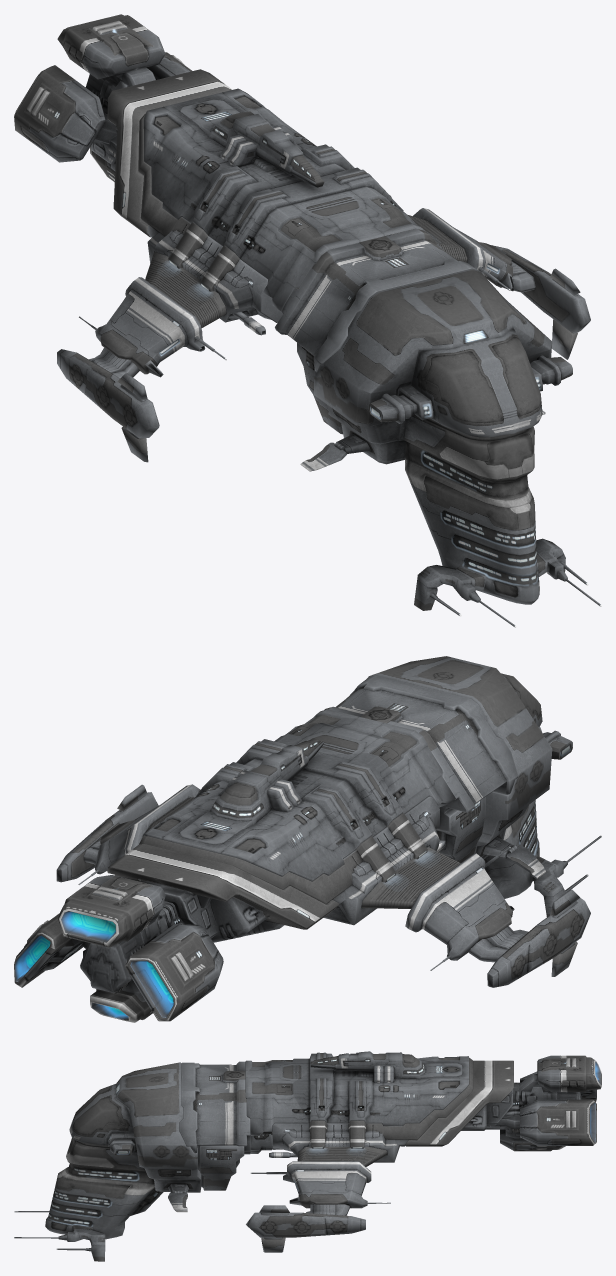
Rendered from 29984_Tengu1213_lite.glb.
The picture shows the model from 3 angles, top to bottom: view 1: azimuth 30°, elevation 25°; view 2: azimuth 150°, elevation 25°; view 3: azimuth 270°, elevation 25°; orthographic projection. The views are drawn at different scales.
Parts seen in each view (by area): view 1: csc1_t3_s1v1, csc1_t3_s2v2, csc1_t3_s3v1, csc1_t3_s4v3; view 2: csc1_t3_s4v3, csc1_t3_s2v2, csc1_t3_s3v1, csc1_t3_s1v1; view 3: csc1_t3_s1v1, csc1_t3_s2v2, csc1_t3_s3v1, csc1_t3_s4v3.
Boxes of the visible parts, x1,y1,x2,y2 form: csc1_t3_s1v1: [275, 228, 601, 627]; csc1_t3_s2v2: [143, 88, 425, 310]; csc1_t3_s3v1: [57, 113, 590, 462]; csc1_t3_s4v3: [14, 14, 232, 237]; csc1_t3_s4v3: [14, 844, 339, 1022]; csc1_t3_s2v2: [143, 709, 455, 881]; csc1_t3_s3v1: [56, 784, 590, 987]; csc1_t3_s1v1: [324, 656, 601, 916]; csc1_t3_s1v1: [14, 1061, 250, 1261]; csc1_t3_s2v2: [245, 1051, 468, 1153]; csc1_t3_s3v1: [246, 1057, 473, 1252]; csc1_t3_s4v3: [405, 1055, 601, 1151].
Size of the model in its own units: 1.88 by 1.21 by 3.44.
5 materials, 5 textured.
